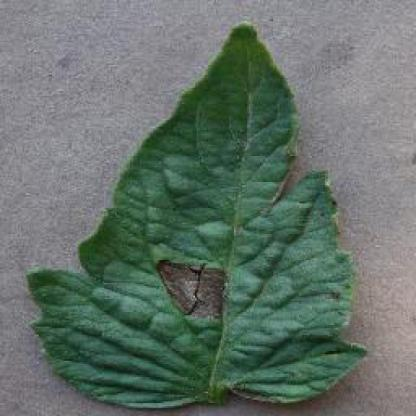Tomato_Blight: (34, 24, 352, 409)
